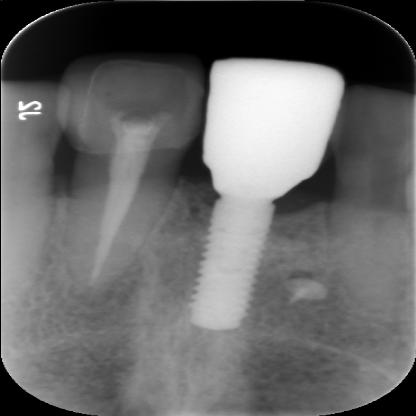ITI: (160, 198, 288, 330)
